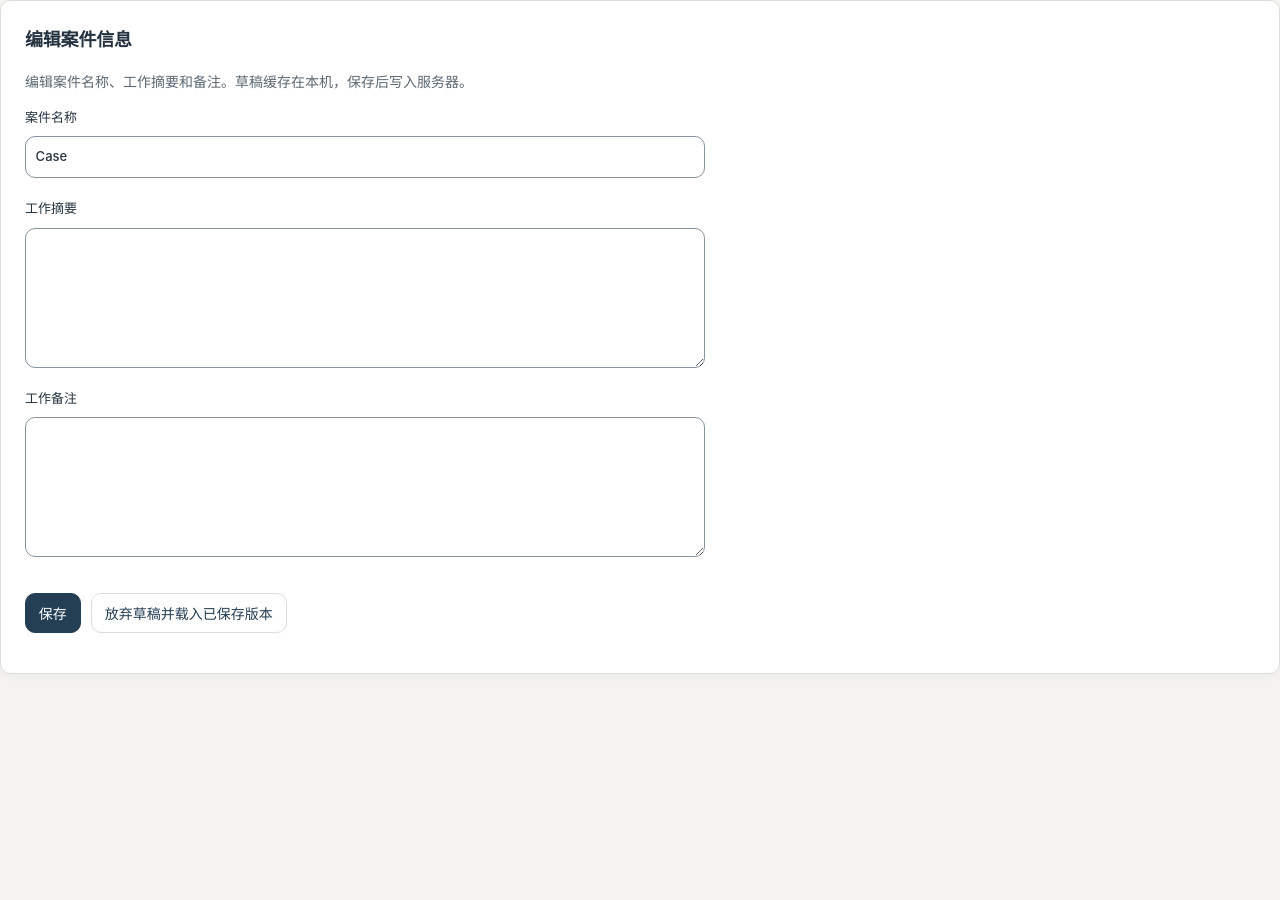
it: retains a local draft after a failed save
Type "Keep me" into the text box labelled "工作备注".
click(365, 487); type("Keep me")  # box x1=25 y1=417 x2=705 y2=557
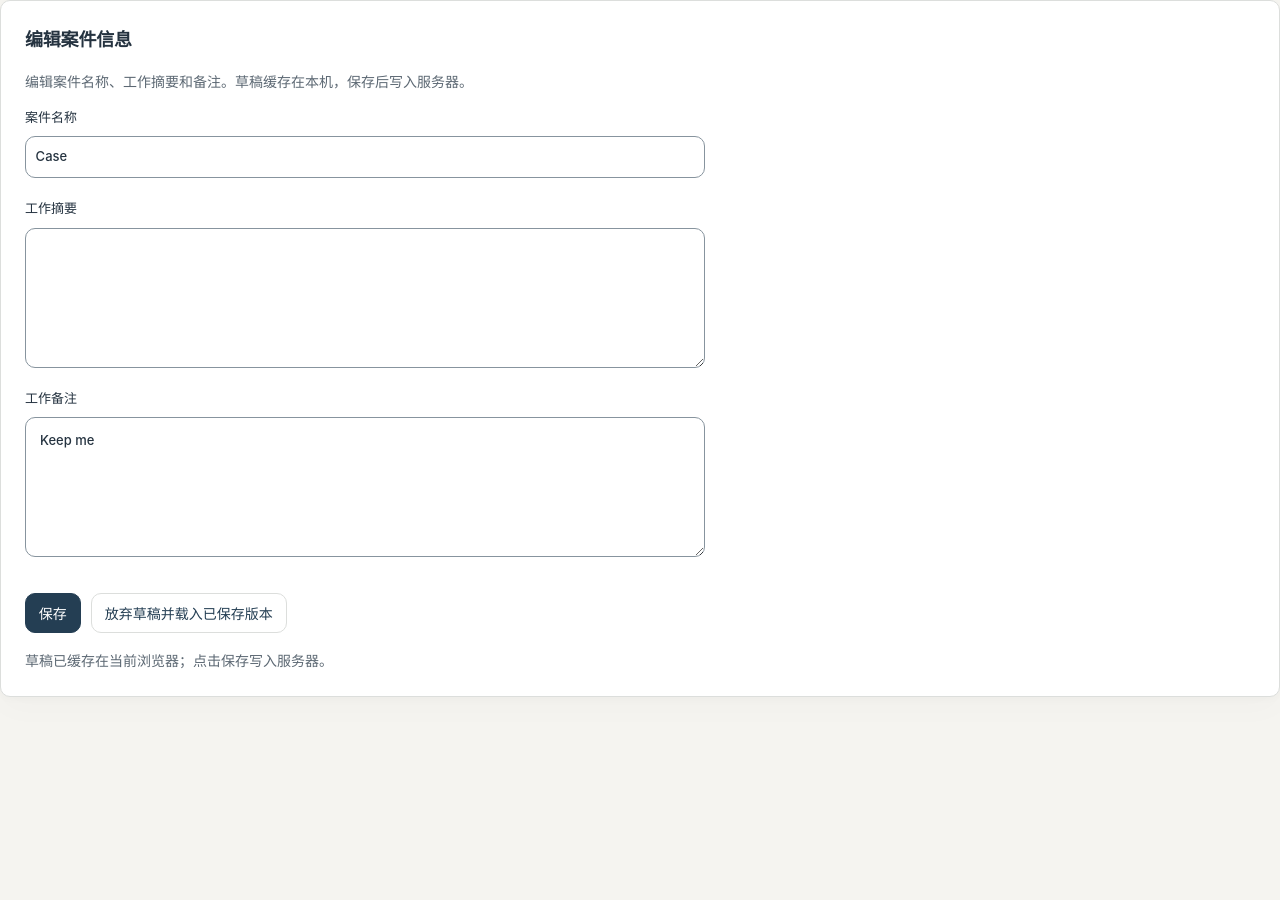
Click the button "保存".
click(53, 613)  # box x1=25 y1=593 x2=81 y2=633
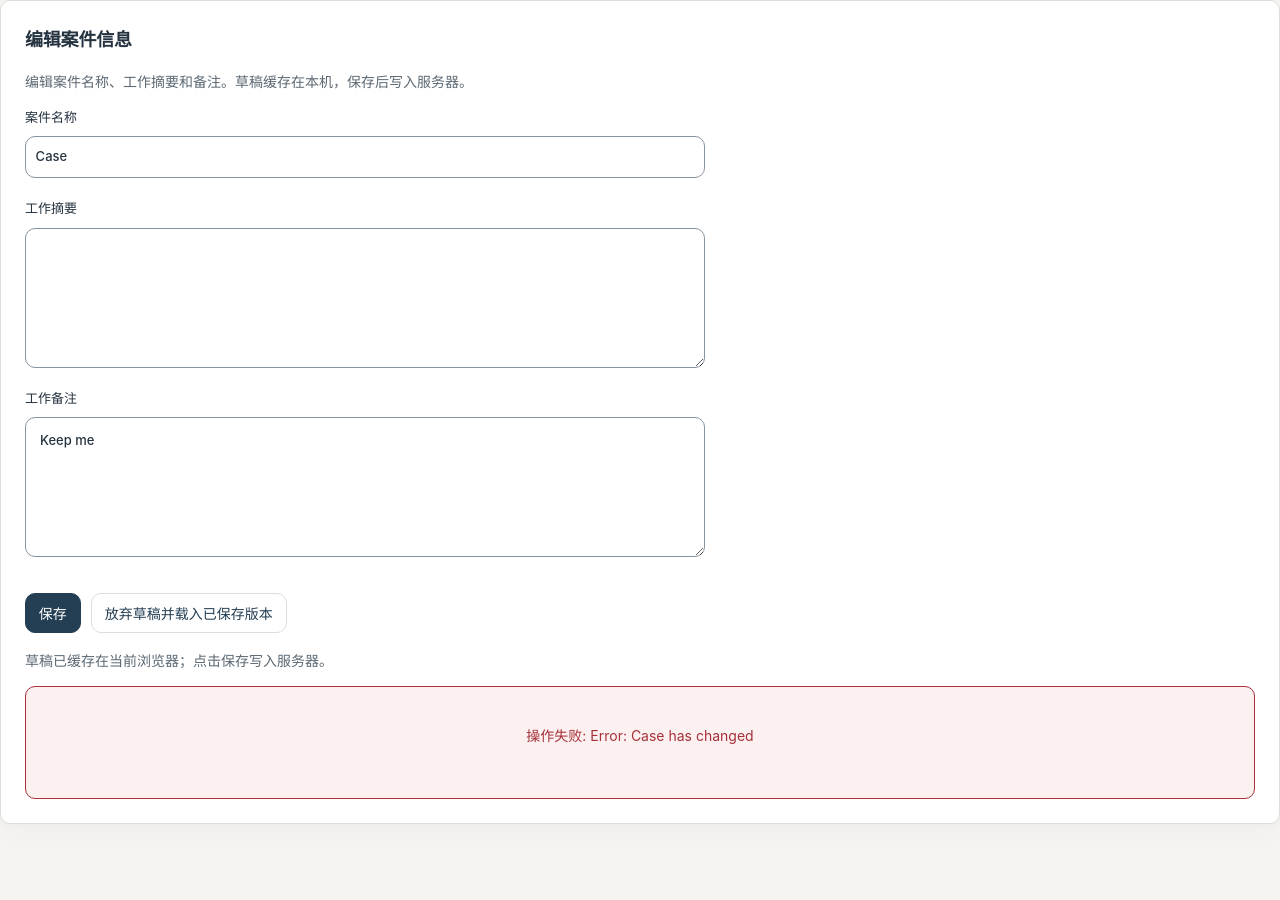
Check: the text "操作失败: Error: Case has changed" is shown, box x1=526 y1=727 x2=754 y2=744
